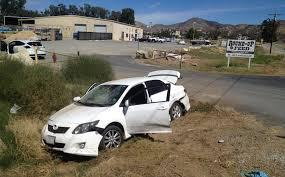front-bumper-dent: (44, 127, 98, 152)
